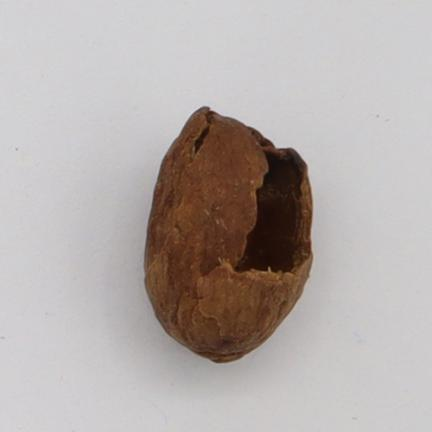husk: (145, 107, 312, 362)
